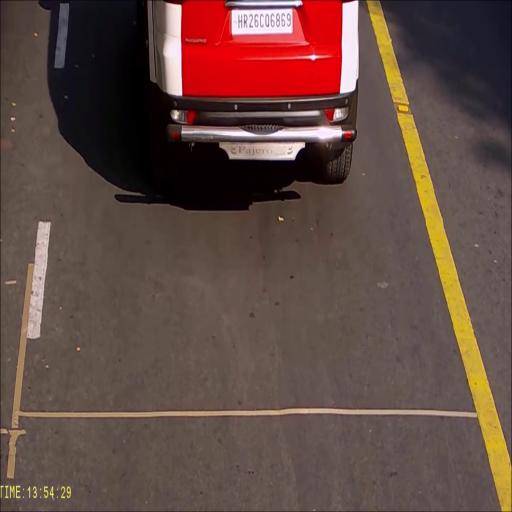License plate: (230, 8, 294, 36)
Vehicle: (146, 0, 360, 186)
